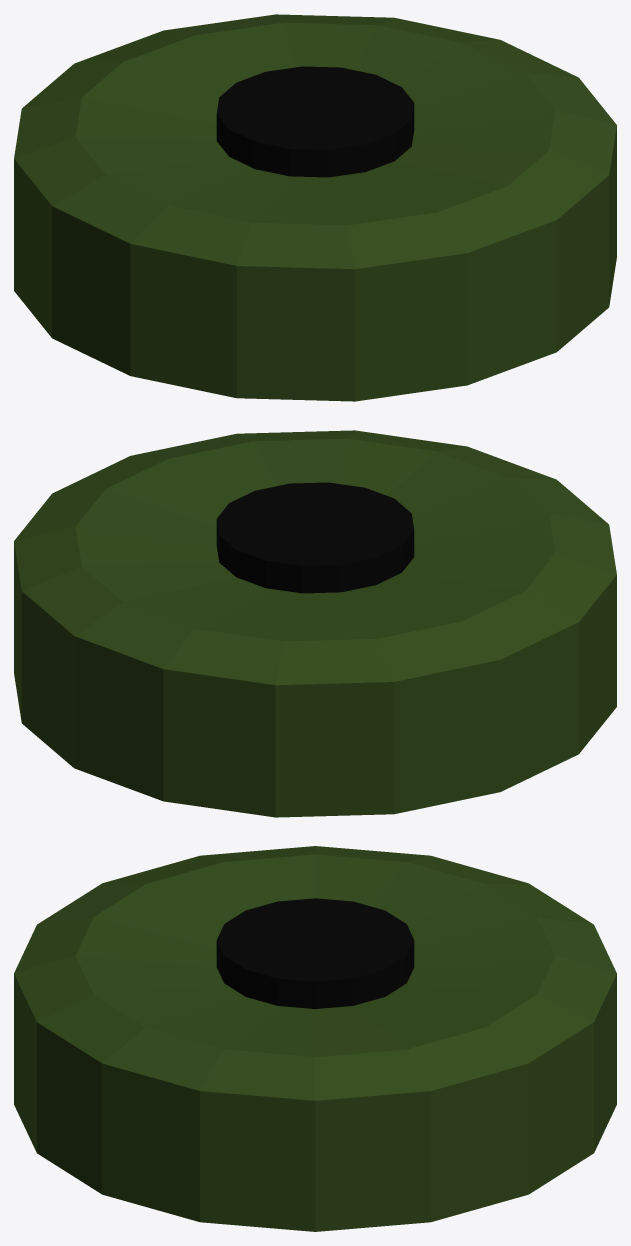
Rendered from Landmine.fbx.
3 renders of one model, top to bottom at view 1: azimuth 30°, elevation 25°; view 2: azimuth 150°, elevation 25°; view 3: azimuth 270°, elevation 25°, orthographic.
Visible parts, largest first — view 1: Cylinder; view 2: Cylinder; view 3: Cylinder.
Boxes of the visible parts, left/top/right/bottom form: Cylinder: left=14, top=14, right=616, bottom=401; Cylinder: left=14, top=430, right=616, bottom=817; Cylinder: left=14, top=846, right=616, bottom=1231.
Bounding box in the file's own units: 0.4 × 0.1204 × 0.4.
